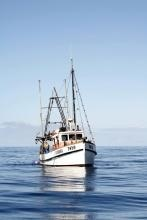otherboat: (37, 117, 103, 167)
